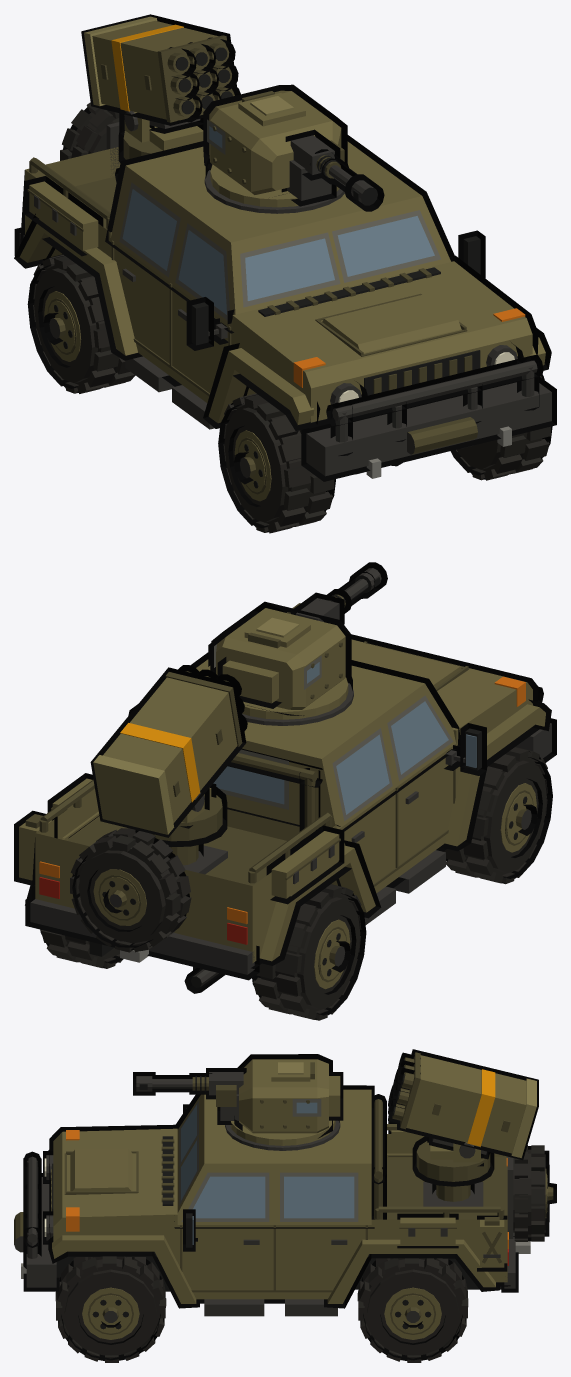
File: jackal_pickup.glb
3 renders of one model, top to bottom at view 1: azimuth 30°, elevation 25°; view 2: azimuth 150°, elevation 25°; view 3: azimuth 270°, elevation 25°, orthographic. The views are drawn at different scales.
Parts seen in each view (by area): view 1: Pickup_Hull, Pickup_Pod, Pickup_Turret, Pickup_Wheel_R1, Pickup_Wheel_R2, Pickup_Gun, Pickup_Wheel_L1, Pickup_PodBase; view 2: Pickup_Hull, Pickup_Pod, Pickup_Turret, Pickup_Wheel_R2, Pickup_Wheel_R1, Pickup_Gun, Pickup_PodBase, Pickup_Wheel_L2; view 3: Pickup_Hull, Pickup_Pod, Pickup_Wheel_L1, Pickup_Wheel_L2, Pickup_Turret, Pickup_Gun, Pickup_PodBase.
Boxes of the visible parts, bbox=[...] form: Pickup_Hull: bbox=[14, 102, 556, 481]; Pickup_Pod: bbox=[81, 14, 240, 133]; Pickup_Turret: bbox=[203, 84, 348, 207]; Pickup_Wheel_R1: bbox=[218, 393, 335, 533]; Pickup_Wheel_R2: bbox=[27, 254, 135, 393]; Pickup_Gun: bbox=[281, 129, 384, 211]; Pickup_Wheel_L1: bbox=[450, 374, 552, 480]; Pickup_PodBase: bbox=[118, 108, 203, 162]; Pickup_Hull: bbox=[14, 634, 556, 993]; Pickup_Pod: bbox=[90, 665, 247, 837]; Pickup_Turret: bbox=[208, 601, 352, 719]; Pickup_Wheel_R2: bbox=[252, 884, 366, 1020]; Pickup_Wheel_R1: bbox=[443, 747, 552, 884]; Pickup_Gun: bbox=[286, 562, 387, 624]; Pickup_PodBase: bbox=[136, 783, 227, 847]; Pickup_Wheel_L2: bbox=[40, 929, 123, 968]; Pickup_Hull: bbox=[14, 1085, 556, 1316]; Pickup_Pod: bbox=[388, 1049, 538, 1160]; Pickup_Wheel_L1: bbox=[55, 1256, 166, 1362]; Pickup_Wheel_L2: bbox=[357, 1258, 468, 1362]; Pickup_Turret: bbox=[230, 1054, 343, 1145]; Pickup_Gun: bbox=[133, 1068, 246, 1124]; Pickup_PodBase: bbox=[412, 1136, 494, 1186].
Bounding box in the file's own units: 2.31 × 2.41 × 4.71.
